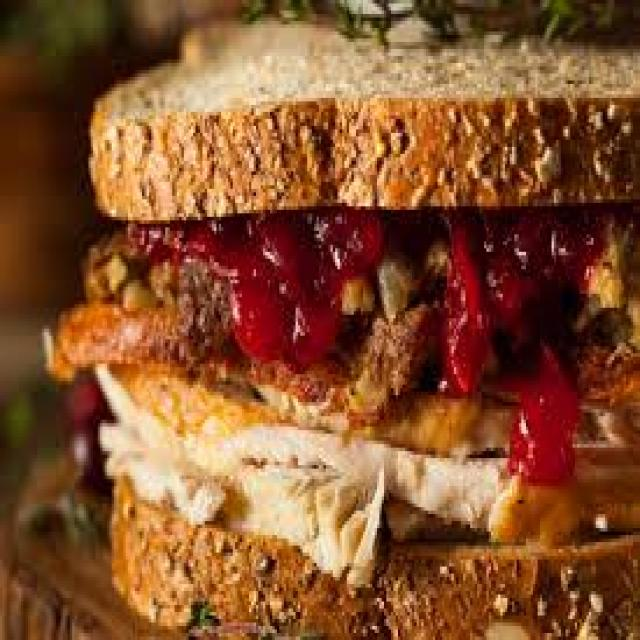organic waste: (40, 14, 638, 636), (93, 360, 638, 588), (42, 290, 638, 420), (77, 234, 638, 336), (105, 353, 638, 455)
